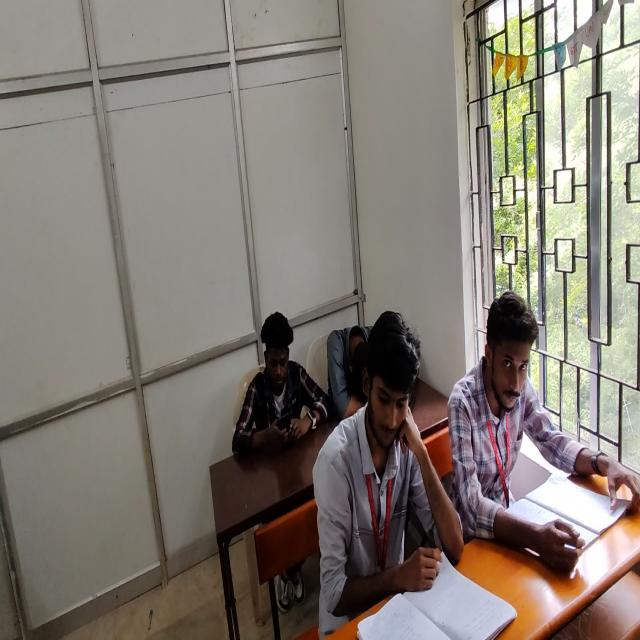listening: (451, 292, 640, 570)
reading: (312, 310, 454, 637)
sleeping: (327, 322, 376, 421)
using_mobile: (232, 310, 332, 454)
